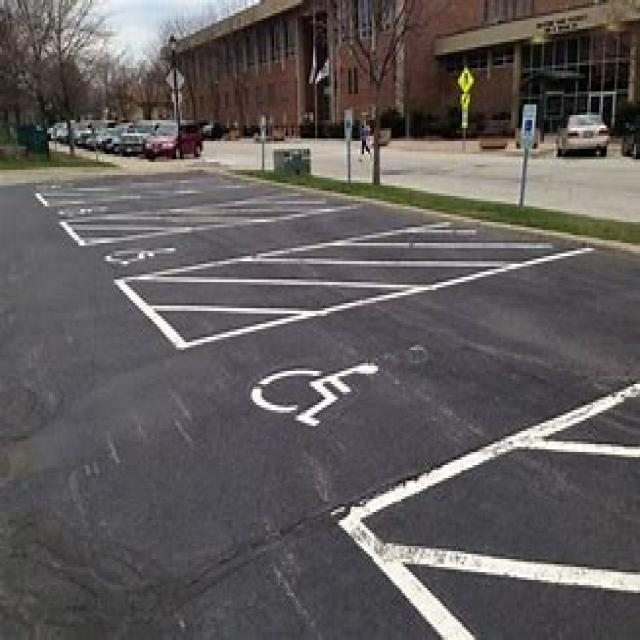car-handicap-placard: (247, 362, 387, 431), (103, 243, 180, 269)
